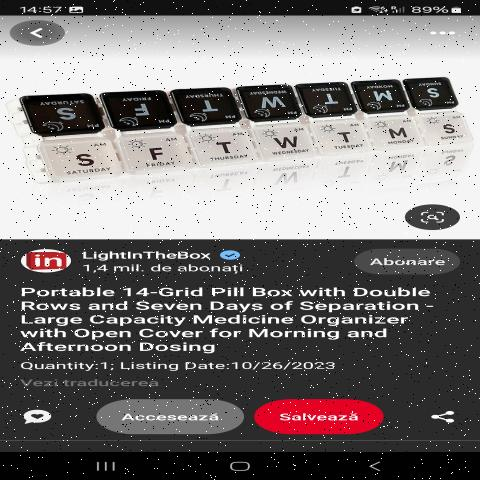Pill-box: (15, 46, 480, 189)
